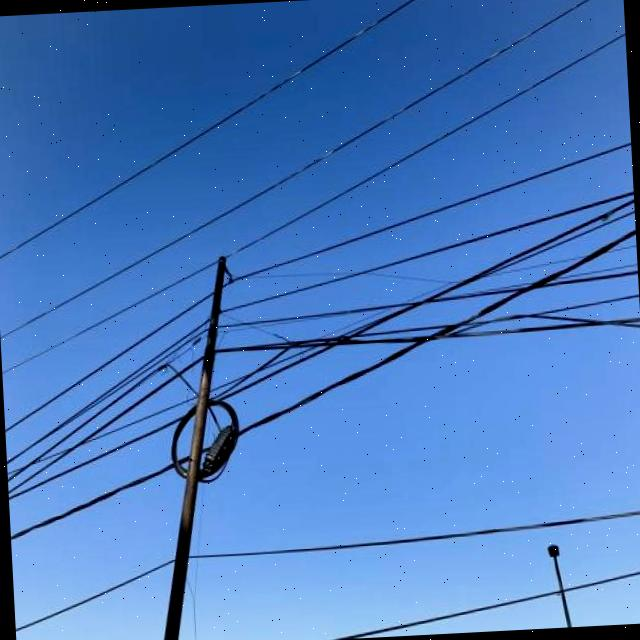Broken Pole: (134, 239, 260, 640)
